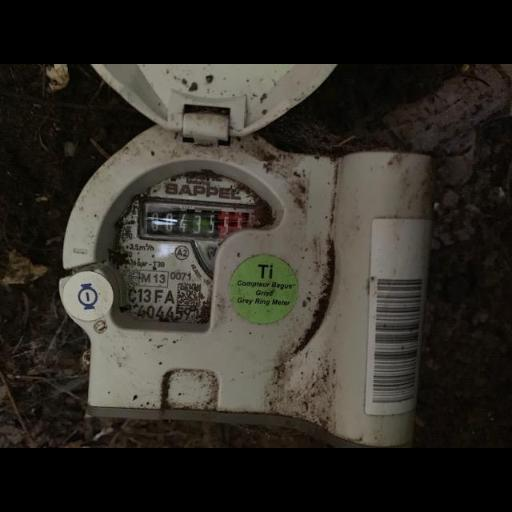0: (161, 211, 178, 236), (146, 210, 162, 234)
4: (190, 209, 206, 238), (177, 212, 191, 237)
5: (205, 210, 219, 239), (219, 210, 233, 238), (233, 212, 247, 234)
6: (247, 209, 261, 229)
border_water_meter_number: (143, 202, 267, 244)
